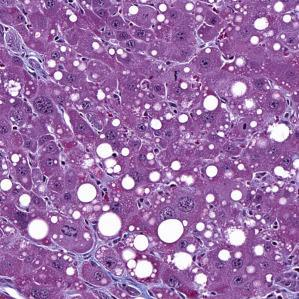fibrosis: (9, 32, 48, 79)
